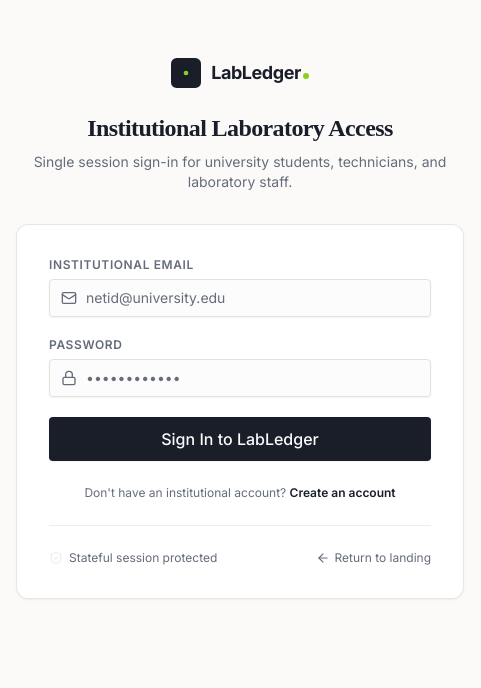
Test case: LoginPage › displays error alert on 401 Bad Credentials
Type "wrong@university.edu" into the field labelled "Institutional Email" at (240, 298), box top-left (49, 278), bottom-right (431, 316)
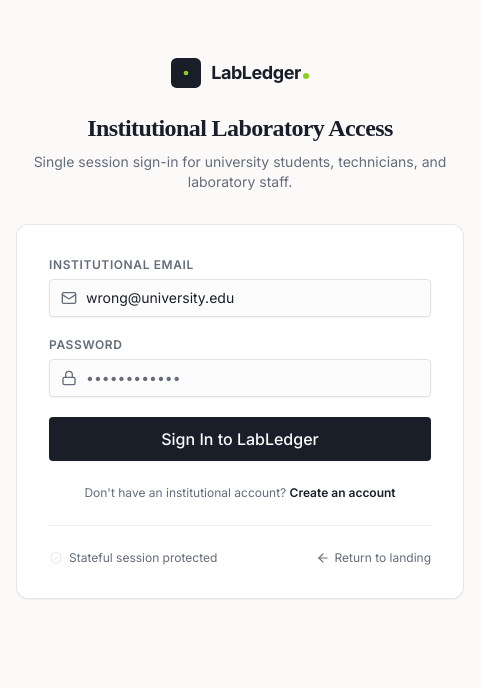
Type "WrongPass!" into the password field labelled "Password" at (240, 378), box top-left (49, 358), bottom-right (431, 396)
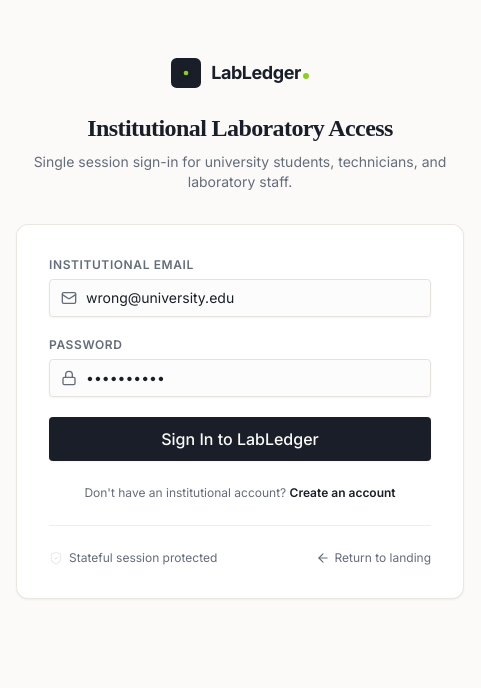
Click the button "Sign In to LabLedger" at (240, 438), box top-left (49, 416), bottom-right (431, 460)
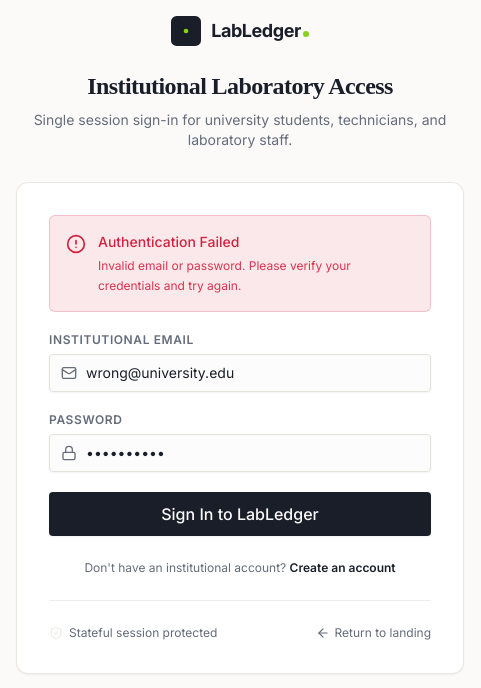
Expected: the message with test id "login-error-alert" is shown, top-left (49, 215), bottom-right (431, 312)
Expected: the text "Invalid email or password" is shown, top-left (98, 258), bottom-right (351, 292)
